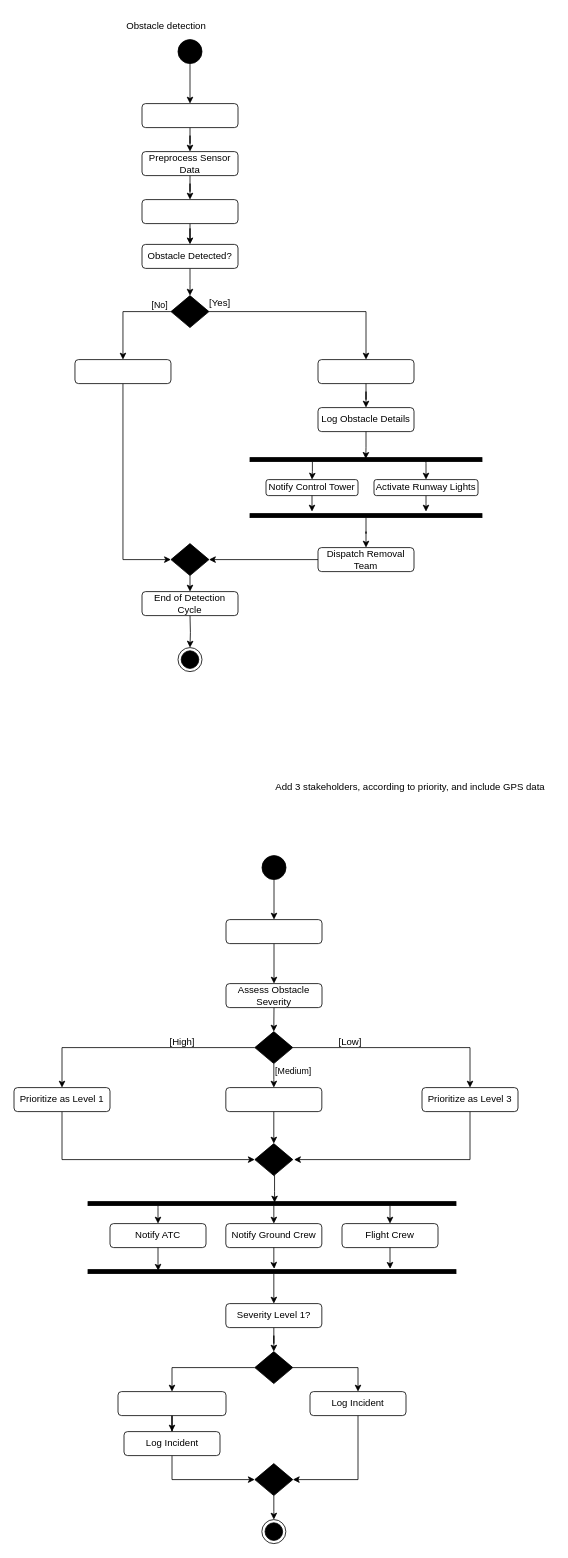
Image size: 568x1558. Some labels were removed from this diagram. Each missing label, with the box of its shape:
AI engine: (141, 199, 238, 224)
Alert Manager: (317, 359, 414, 384)
Continue Monitoring: (74, 359, 171, 384)
Escalate to Emergency Response Team: (117, 1391, 226, 1416)
Prioritize as Level 2: (225, 1087, 322, 1112)
Receive Obstacle Information: (225, 919, 322, 944)
Scan Environment: (141, 103, 238, 128)
